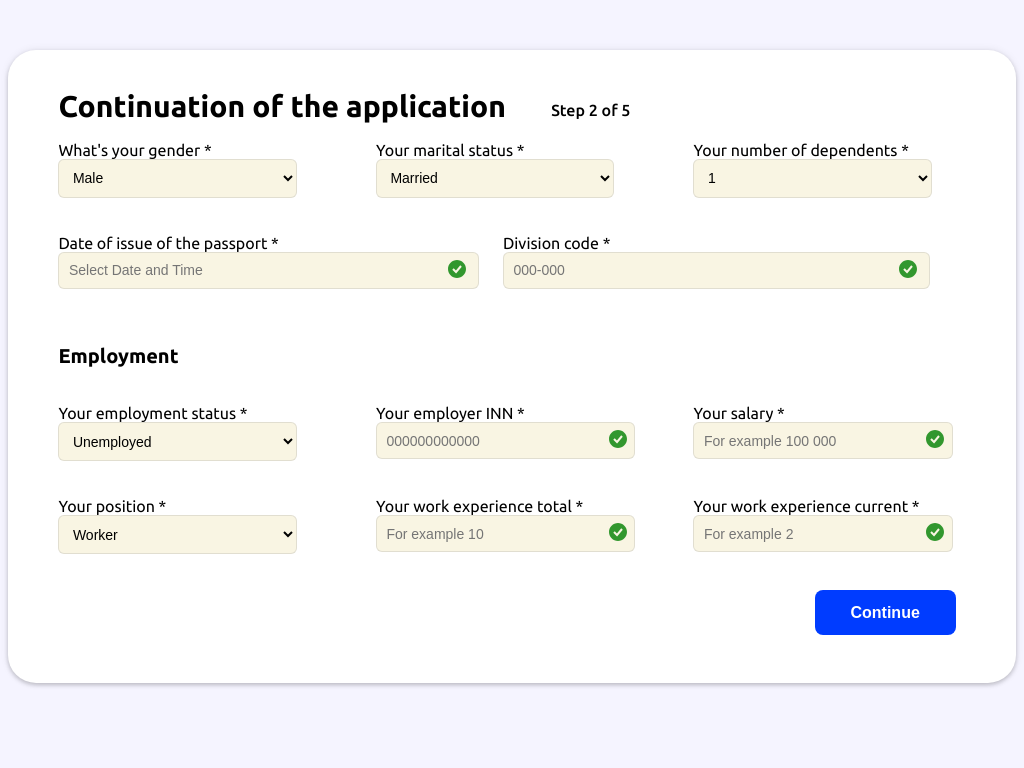
Test: Scoring component › with invalid dependents › renders the dependents validation error
Step 1. Select "6" in the dropdown labelled "Your number of dependents *" → point(812, 178), box [693,159,932,198]
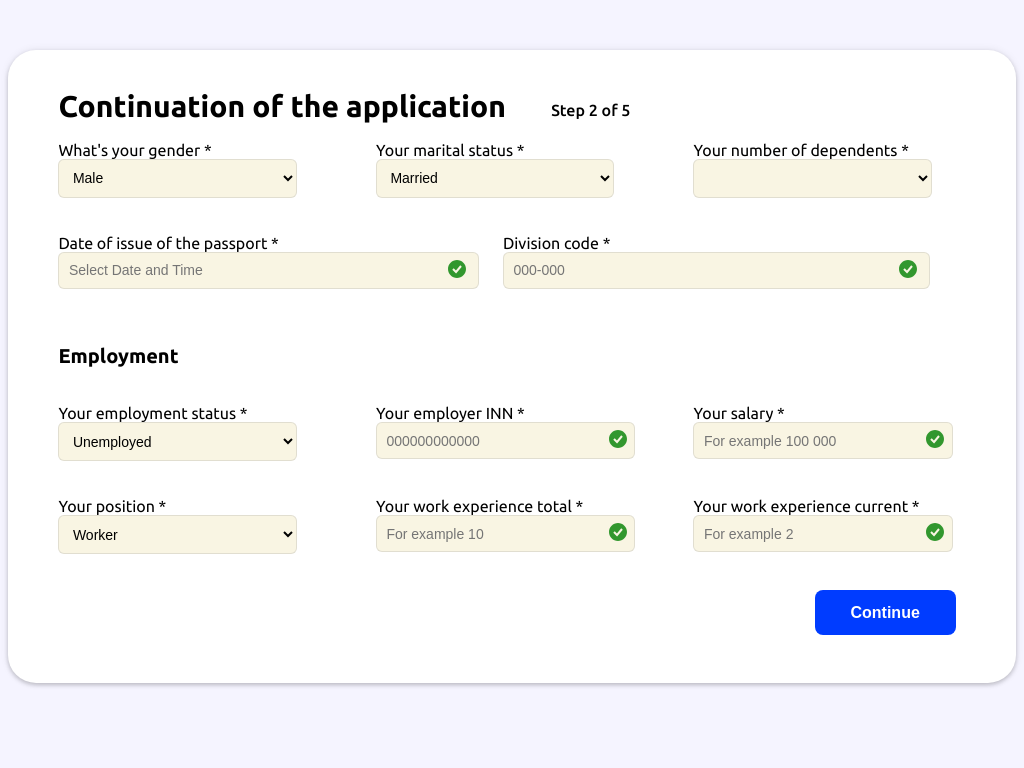
Step 2. Leave the dropdown labelled "Your number of dependents *", box [693,159,932,198]
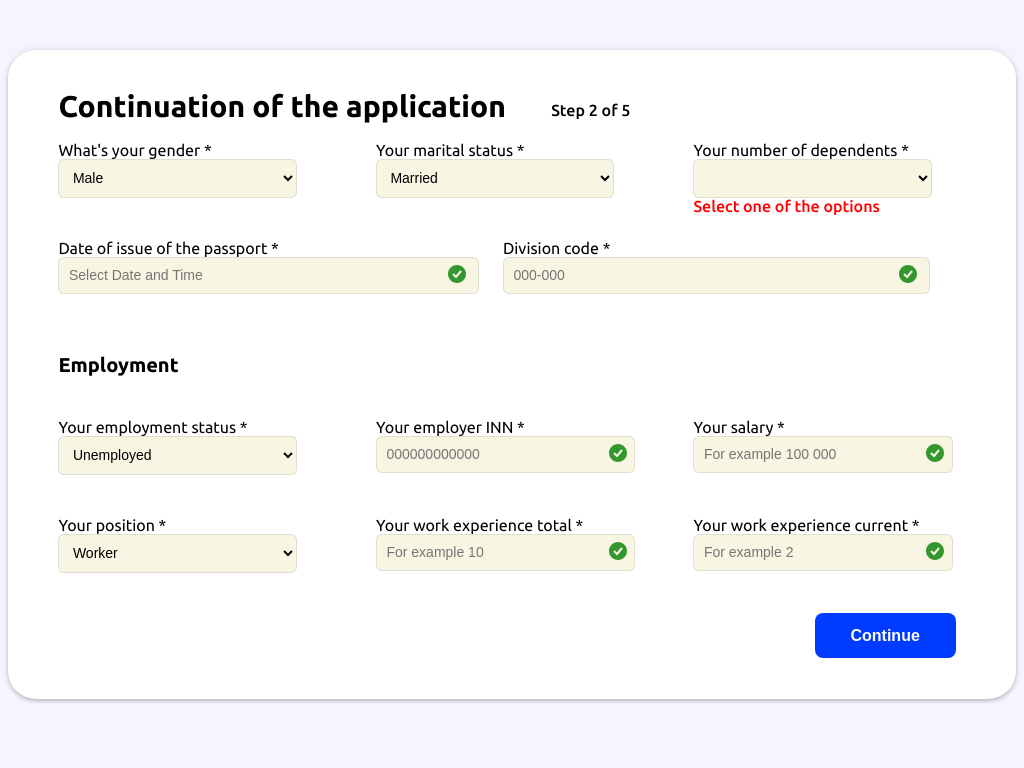
Now the text "Select one of the options" is shown, box [693,197,880,215]
